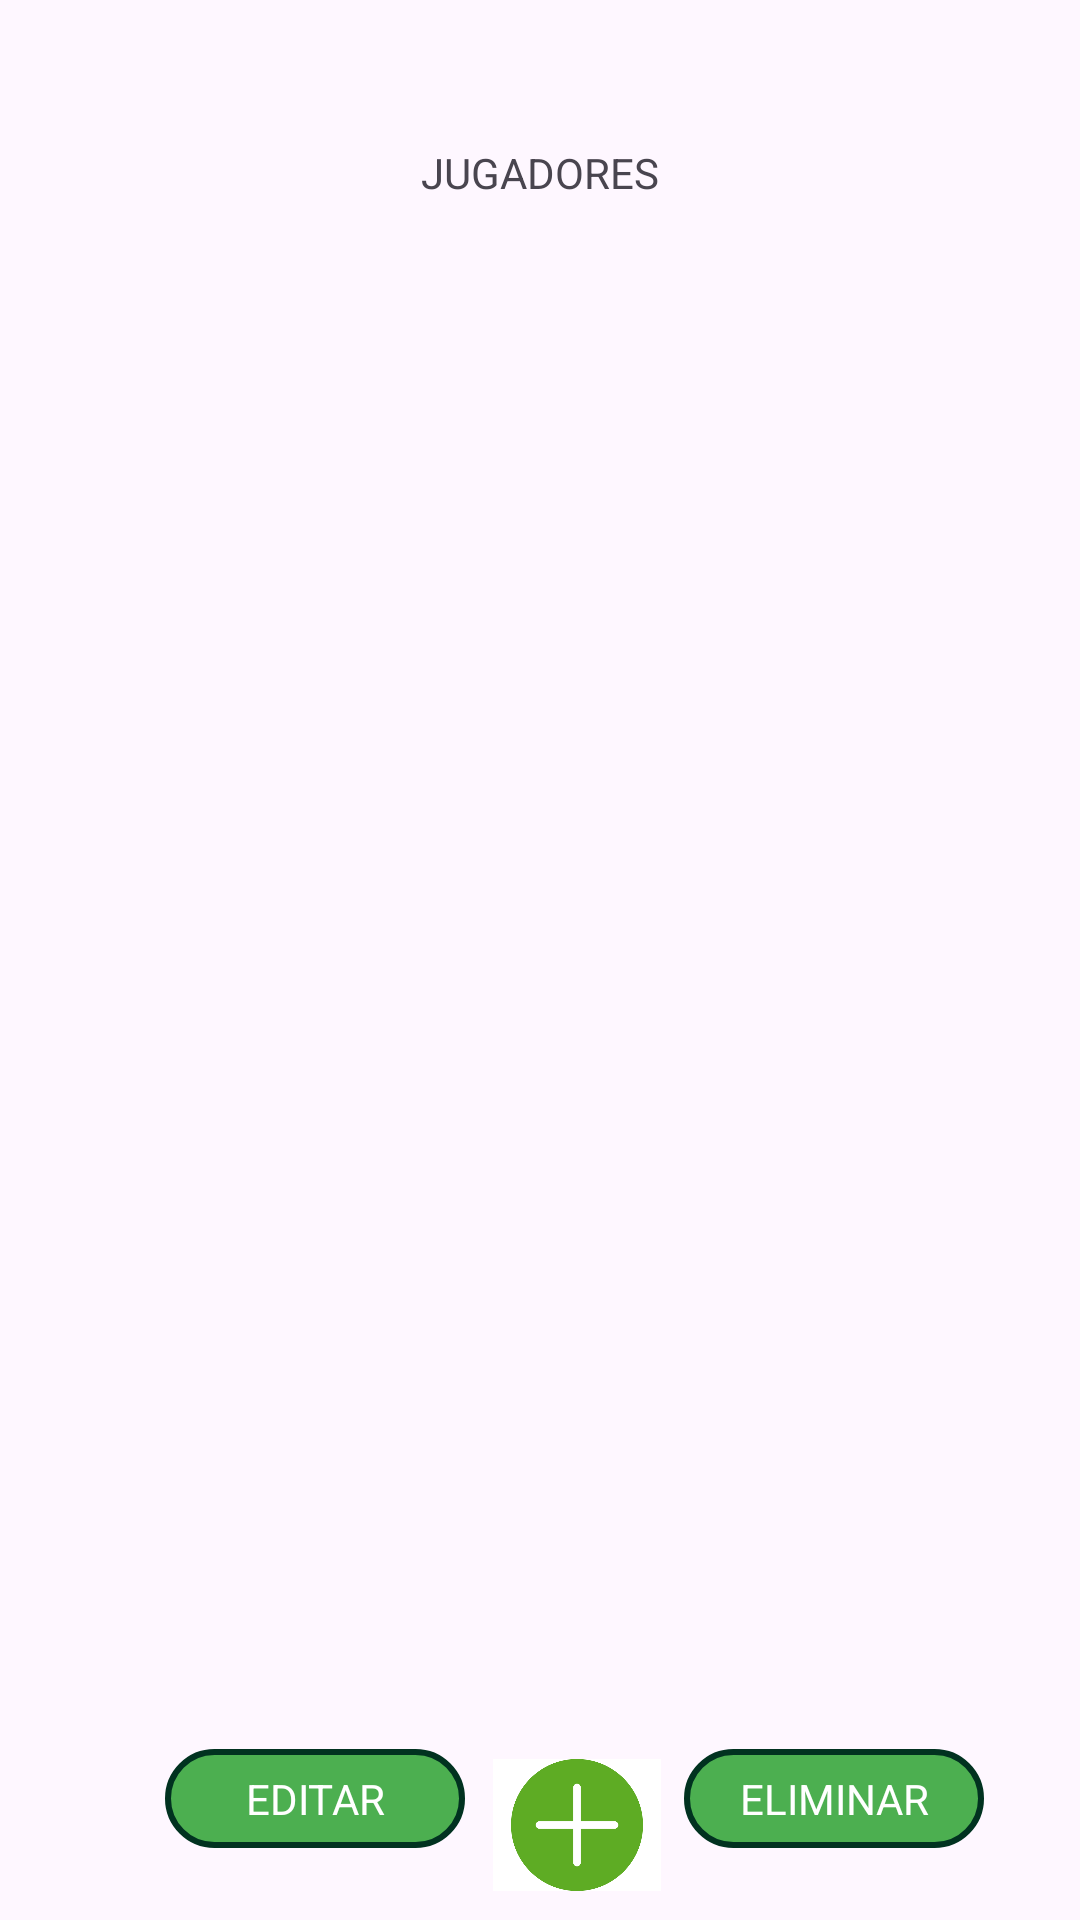

Icons on this 1080px x 1920px Android screen, each with its box as (x1, y1, x2, y2):
mas: (511, 1759, 643, 1891)
